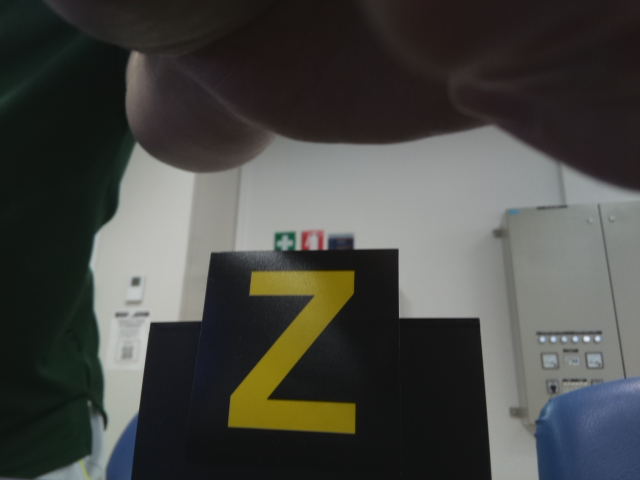z: (227, 266, 361, 446)
